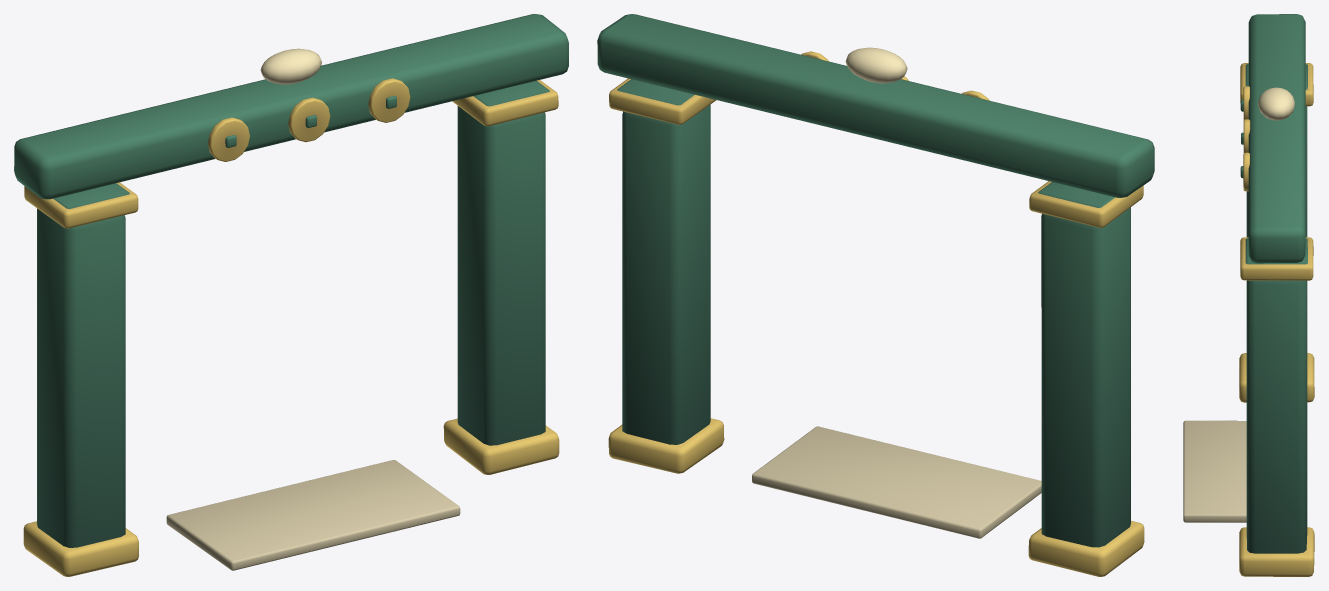
The picture shows the model from 3 angles, left to right: view 1: azimuth 30°, elevation 25°; view 2: azimuth 150°, elevation 25°; view 3: azimuth 270°, elevation 25°; orthographic projection. The views are drawn at different scales.
Parts seen in each view (by area): view 1: gate_0e2b5990; view 2: gate_0e2b5990; view 3: gate_0e2b5990.
Boxes of the visible parts, x1,y1,x2,y2 form: gate_0e2b5990: [14, 14, 568, 576]; gate_0e2b5990: [597, 14, 1154, 576]; gate_0e2b5990: [1183, 14, 1314, 576].
Bounding box in the file's own units: 5.56 × 4.52 × 1.4.
